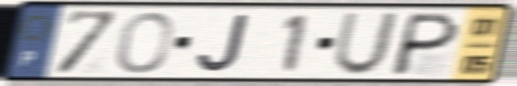1: (279, 13, 310, 74)
7: (55, 8, 120, 76)
J: (194, 12, 252, 74)
O: (113, 10, 176, 76)
P: (386, 10, 464, 78)
U: (330, 10, 402, 77)
